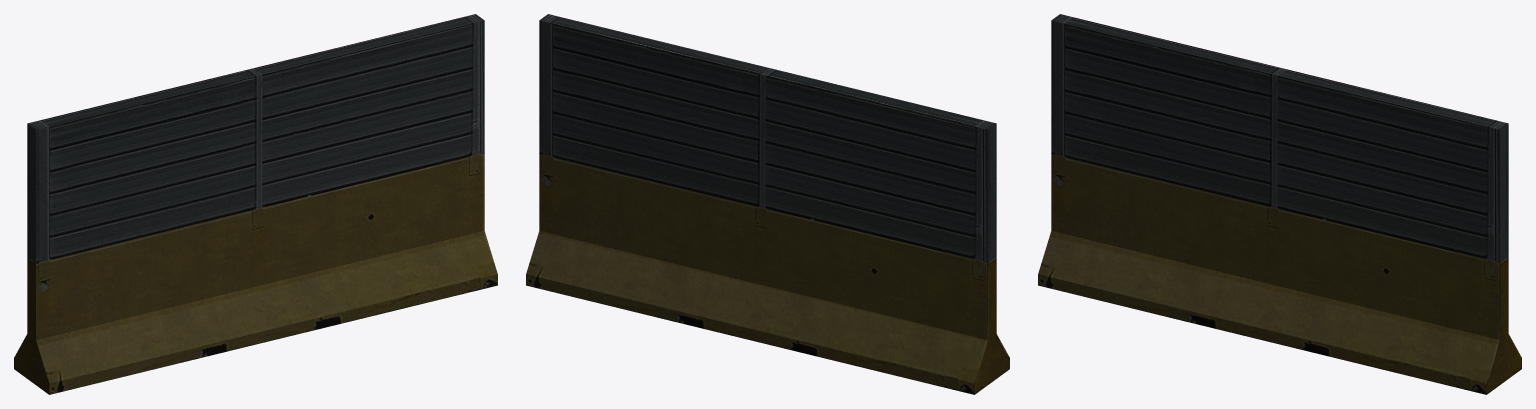
File: barricade_a_3.dae
The picture shows the model from 3 angles, left to right: view 1: azimuth 30°, elevation 25°; view 2: azimuth 150°, elevation 25°; view 3: azimuth 330°, elevation 25°; orthographic projection.
Parts seen in each view (by area): view 1: barricade_a_3; view 2: barricade_a_3; view 3: barricade_a_3.
Boxes of the visible parts, bbox=[...] form: barricade_a_3: bbox=[14, 14, 497, 394]; barricade_a_3: bbox=[526, 14, 1009, 394]; barricade_a_3: bbox=[1038, 14, 1521, 394].
Bounding box in the file's own units: 2.94 × 0.4 × 1.6.
Materials: 1 (1 with a texture image).
